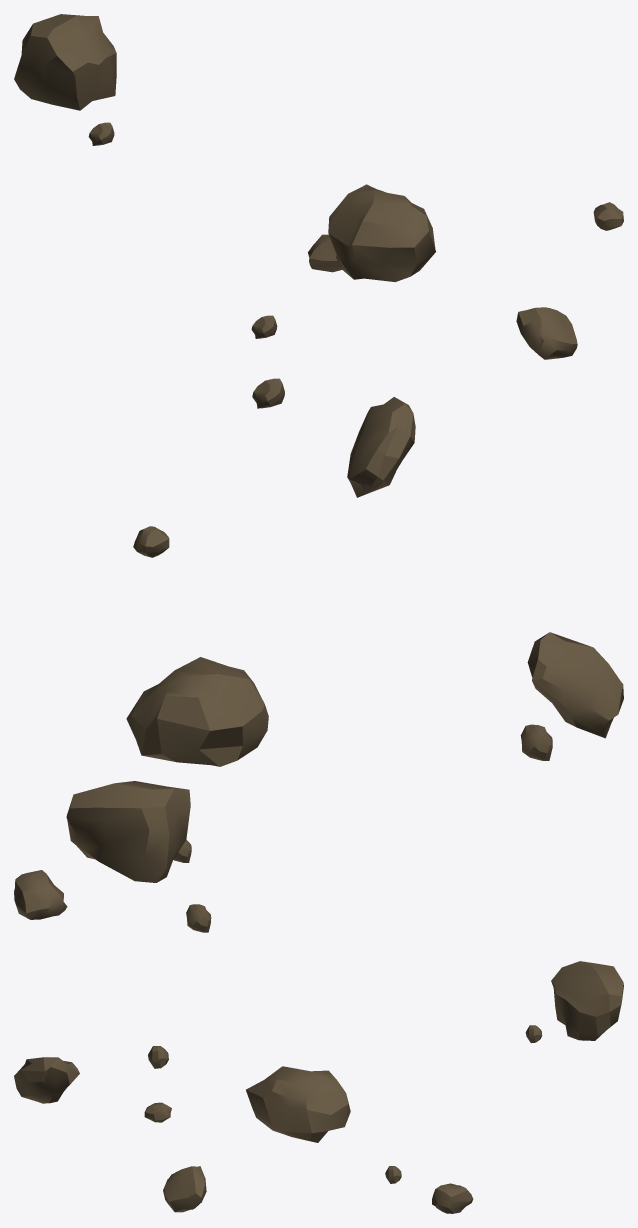
The model's file is floating_rock_small_1.fbx.
3 views of the same model, one above another, from view 1: azimuth 30°, elevation 25°; view 2: azimuth 150°, elevation 25°; view 3: azimuth 270°, elevation 25° (orthographic). The views are drawn at different scales.
Visible parts, largest first — view 1: Cube.023; view 2: Cube.023; view 3: Cube.023.
Part boxes in pixels (x1,y1,x2,y2): Cube.023: [14, 14, 623, 497]; Cube.023: [14, 526, 623, 932]; Cube.023: [14, 961, 623, 1213].
Size of the model in its own units: 404 by 254 by 749.
